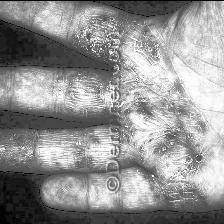Non-Cancerous Skin Condition: (72, 12, 124, 67), (166, 150, 204, 208), (1, 132, 38, 168)
